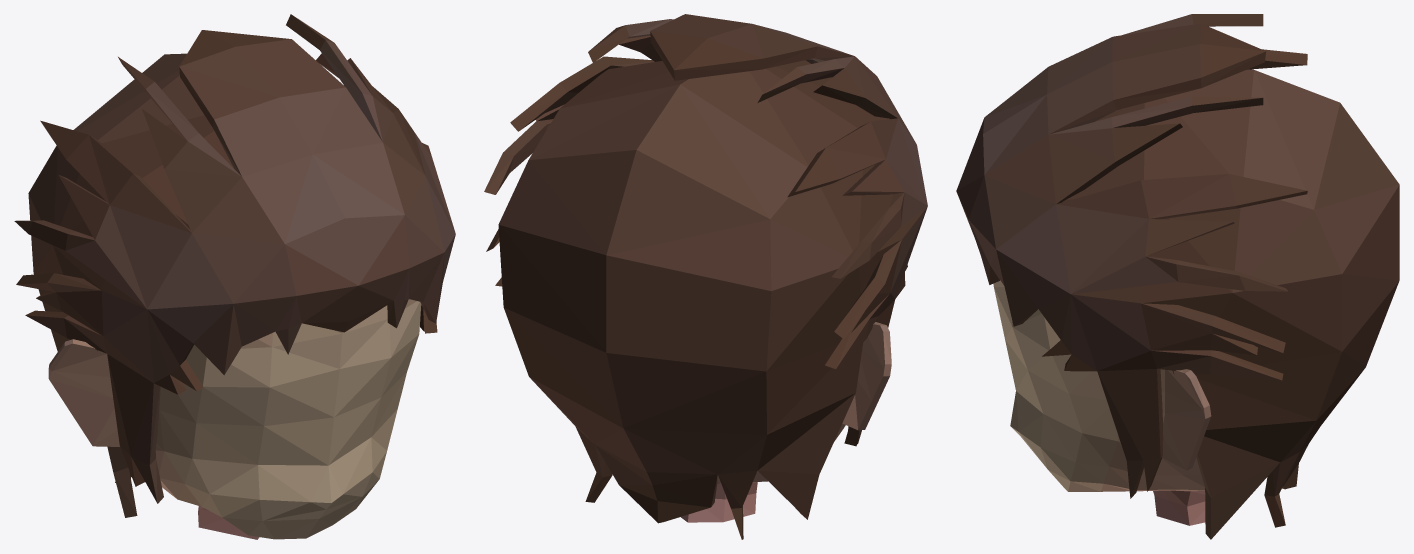
File: helm_lightskin_spike_brown.fbx
3 renders of one model, left to right at view 1: azimuth 30°, elevation 25°; view 2: azimuth 150°, elevation 25°; view 3: azimuth 270°, elevation 25°, orthographic.
Visible parts, largest first — view 1: helm_lightskin_spike_brown; view 2: helm_lightskin_spike_brown; view 3: helm_lightskin_spike_brown.
Part boxes in pixels (left/top/right/bottom): helm_lightskin_spike_brown: left=14, top=14, right=455, bottom=539; helm_lightskin_spike_brown: left=484, top=14, right=927, bottom=539; helm_lightskin_spike_brown: left=956, top=14, right=1399, bottom=539.
Bounding box in the file's own units: 1.13 × 1.39 × 1.18.
